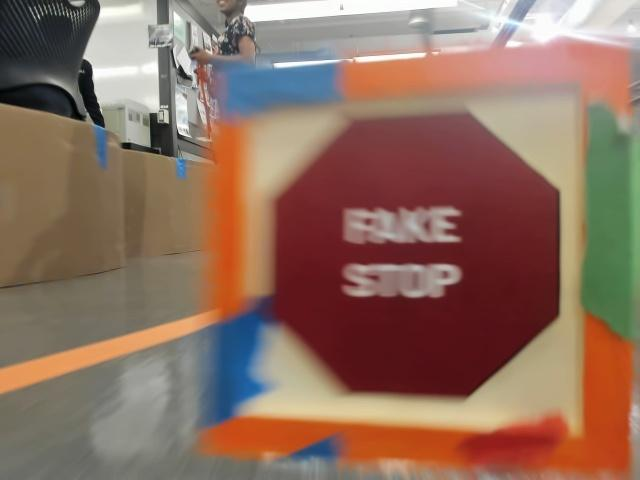Fake Stop: (272, 113, 559, 397)
